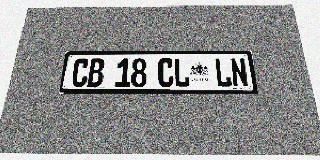1: (115, 58, 132, 87)
8: (131, 58, 147, 87)
B: (87, 58, 105, 87)
C: (71, 59, 89, 87), (158, 58, 174, 87)
L: (214, 58, 232, 87), (174, 58, 190, 87)
N: (230, 58, 249, 87)
